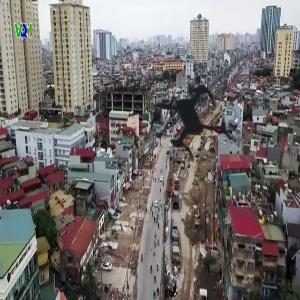drone: (110, 41, 272, 203)
